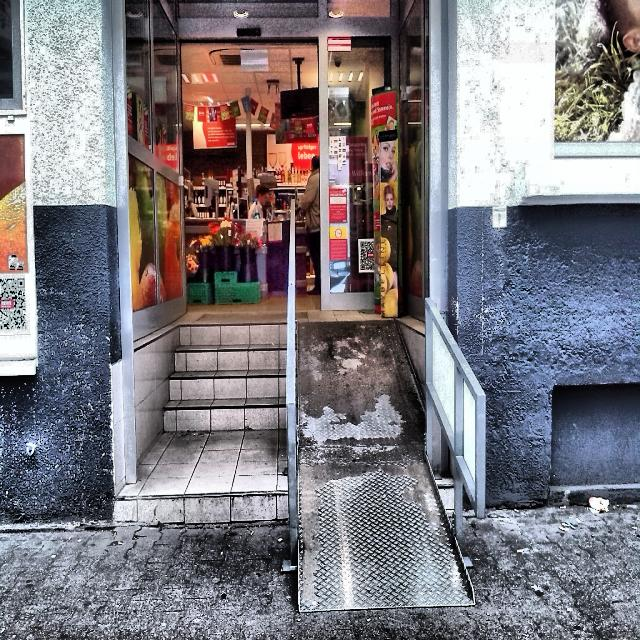escada: (164, 324, 289, 430)
